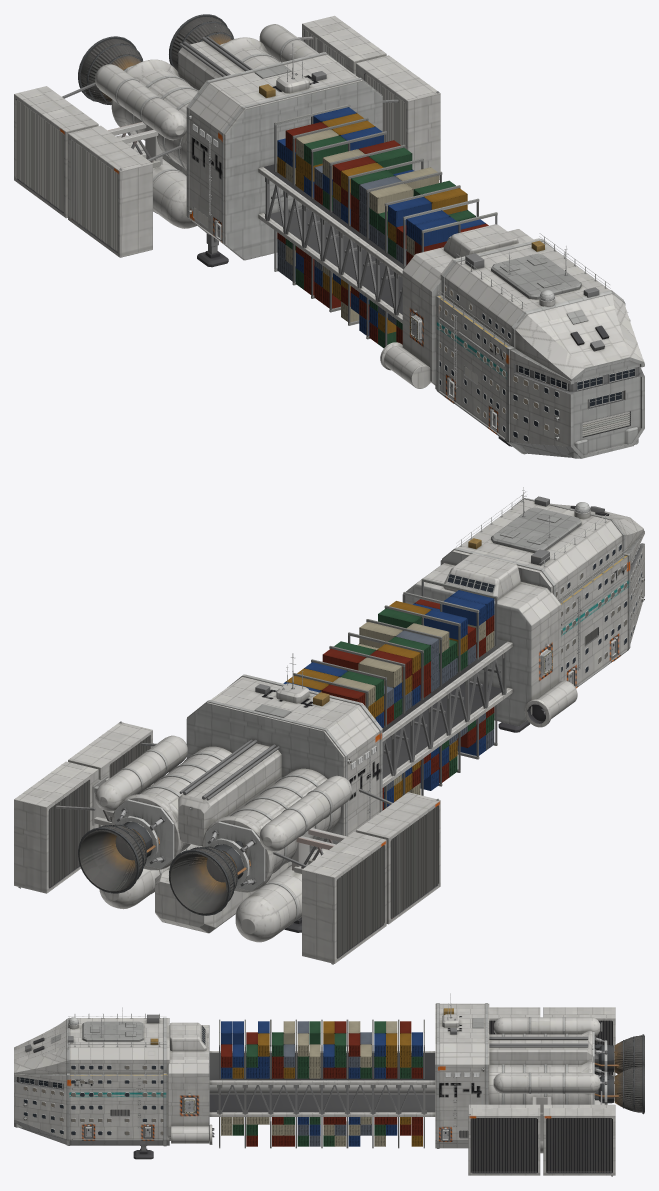
File: freighter.glb
3 renders of one model, top to bottom at view 1: azimuth 30°, elevation 25°; view 2: azimuth 150°, elevation 25°; view 3: azimuth 270°, elevation 25°, orthographic. The views are drawn at different scales.
Parts seen in each view (by area): view 1: hull, parts_container, parts_bell-L, parts_portlite, parts_pane, parts_rail; view 2: hull, parts_container, parts_bell-L, parts_portlite; view 3: hull, parts_container, parts_bell-L, parts_portlite, parts_rail, parts_pane.
Boxes of the visible parts, bbox=[...] form: hull: bbox=[14, 15, 644, 458]; parts_container: bbox=[277, 107, 488, 348]; parts_bell-L: bbox=[78, 14, 233, 105]; parts_portlite: bbox=[439, 285, 559, 441]; parts_pane: bbox=[446, 236, 640, 407]; parts_rail: bbox=[438, 233, 628, 345]; hull: bbox=[14, 496, 644, 963]; parts_container: bbox=[283, 590, 494, 810]; parts_bell-L: bbox=[78, 799, 265, 915]; parts_portlite: bbox=[556, 544, 642, 672]; hull: bbox=[14, 1003, 615, 1175]; parts_container: bbox=[221, 1021, 422, 1146]; parts_bell-L: bbox=[593, 1032, 644, 1114]; parts_portlite: bbox=[23, 1065, 163, 1135]; parts_rail: bbox=[68, 1013, 166, 1075]; parts_pane: bbox=[16, 1025, 205, 1088].
Bounding box in the file's own units: 54.68 × 38.16 × 134.
Materials: 22 (19 with a texture image).
